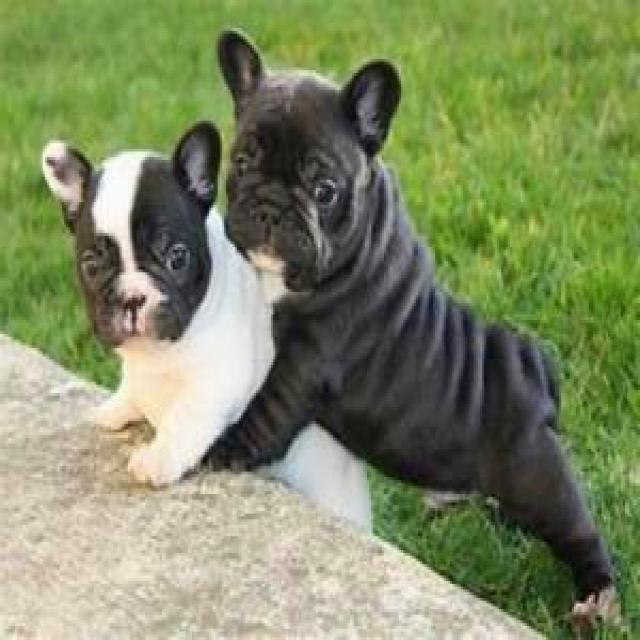KOPEK: (220, 23, 640, 571), (52, 114, 216, 486)
